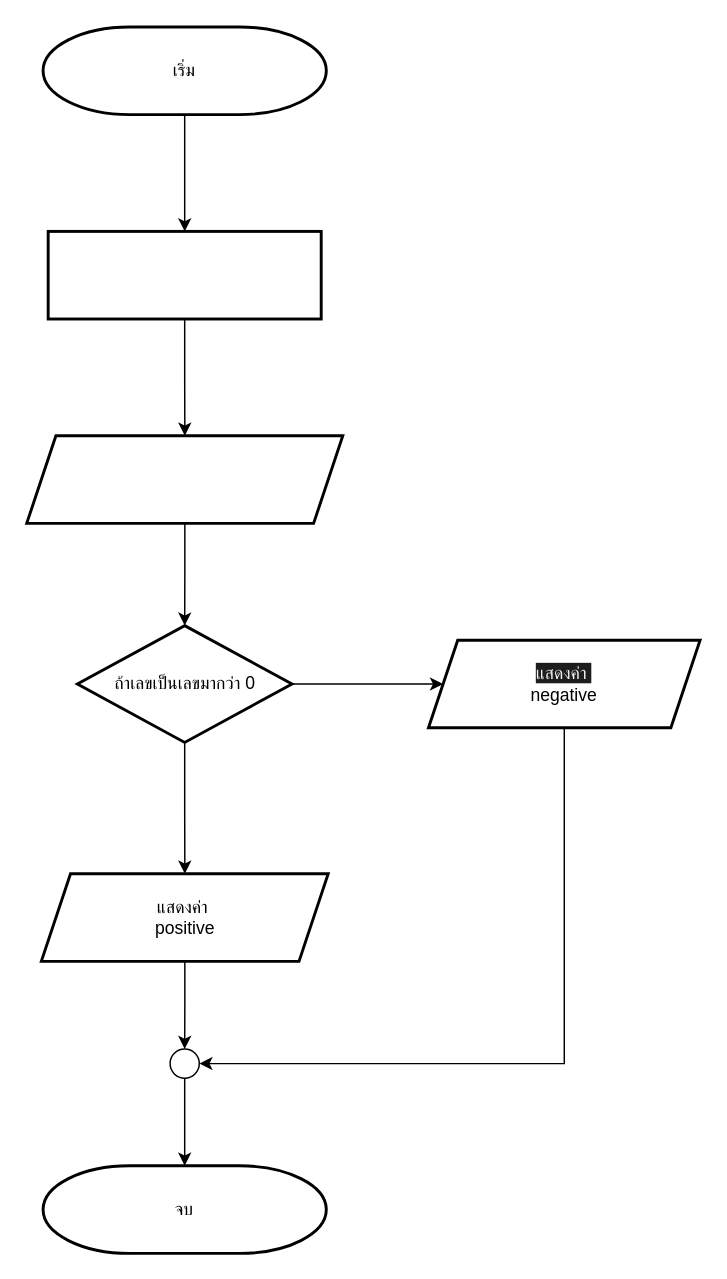
The diagram is 727 pixels wide and 1279 high, and some of its shapes have lost their labels. Here are the shapes that lost their labels. From the top down, the centre of each, then its label:
the point at 184,274: สร้างตัวแปรรับตัวเลข 1 ตัว
the point at 184,479: รับค่าตัวเลข
